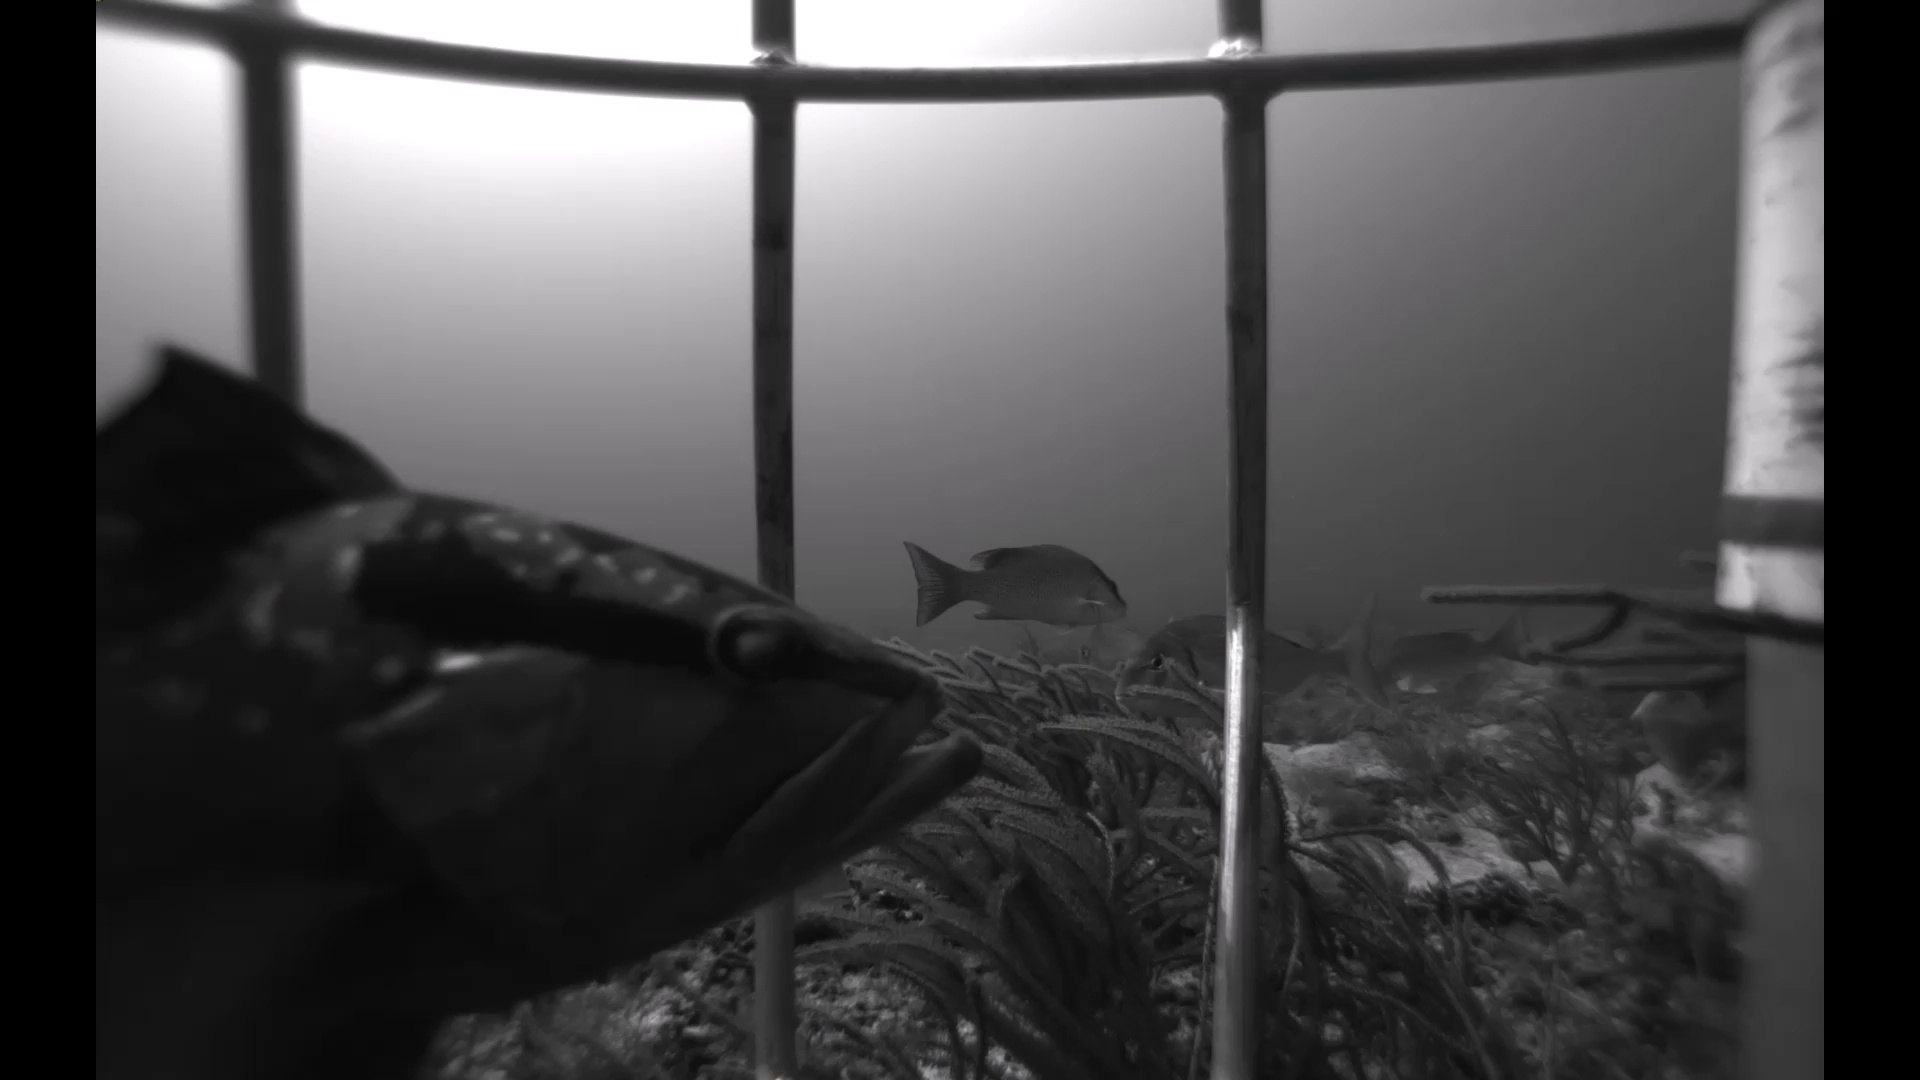CALAMUSNODOSUS-170210608: (793, 855, 873, 920), (1071, 618, 1151, 671)
EPINEPHELUSMORIO-170021211: (99, 334, 1005, 1062)
HOLACANTHUSBERMUDENSIS-170290102: (1610, 659, 1755, 811)
LUTJANUSGRISEUS-170151109: (893, 531, 1131, 640), (1367, 591, 1548, 702)
PAGRUSPAGRUS-170212302: (1095, 600, 1400, 737)
